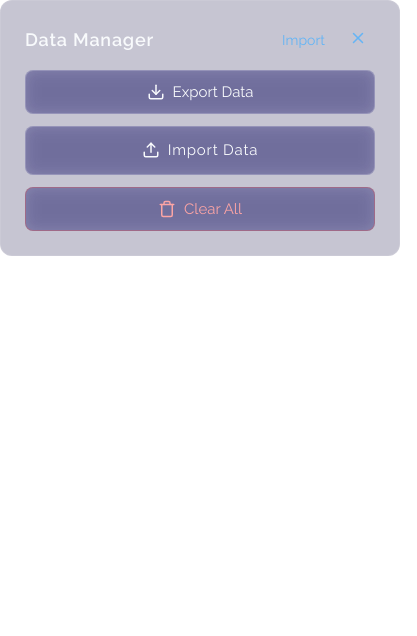
DataManager › shows error for invalid backup data
Click the button "Import" at (304, 40), box [274,28,333,52]
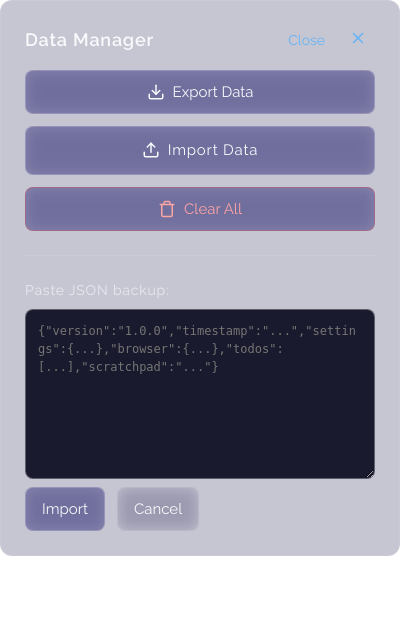
Replace the text in the text box with placeholder "{\"version\"" with "not json" at (200, 394), box [25,308,375,478]
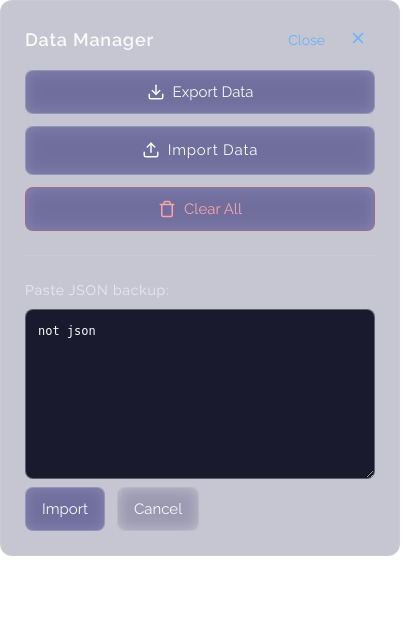
Click the button "Import" at (65, 508), box [25,486,105,530]
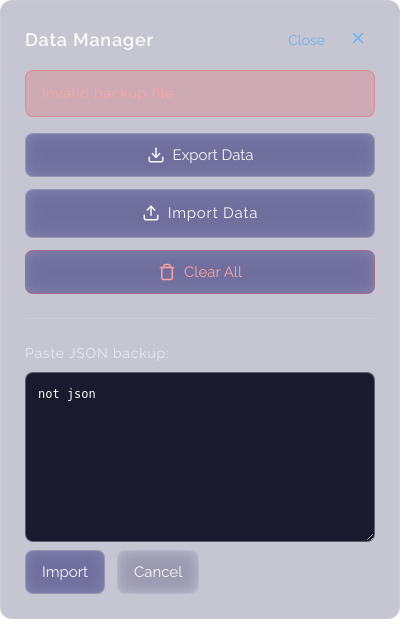
Now the text "Invalid backup file" is shown, box [25,70,375,117]
